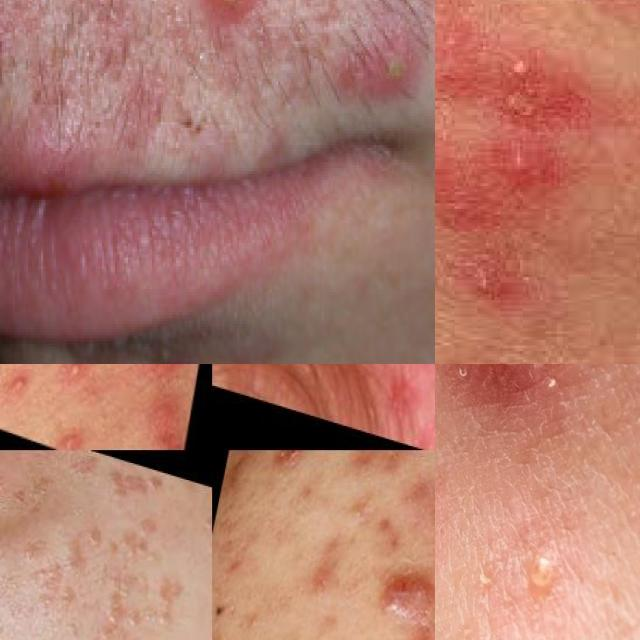comedone: (422, 496, 435, 537)
flat_wart: (68, 515, 194, 640), (9, 528, 102, 630), (0, 601, 152, 640), (102, 459, 164, 513)
folliculitis: (492, 135, 557, 203), (460, 263, 523, 308), (143, 364, 173, 380)
pustule: (497, 41, 540, 95), (57, 364, 92, 394), (5, 364, 30, 399), (240, 450, 264, 460)
sebo-crystan-conglo: (364, 561, 435, 636)
